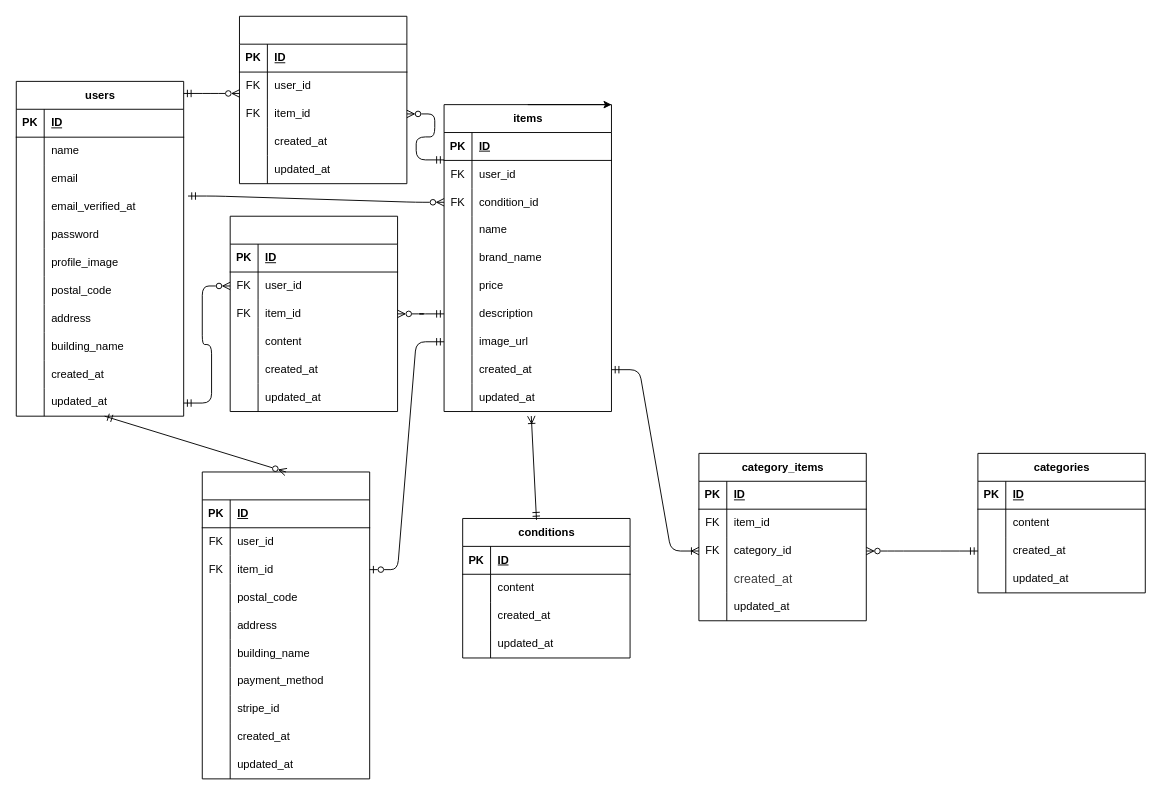
The diagram is 1162 pixels wide and 795 high, and some of its shapes have lost their labels. Here are the shapes that lost their labels. From the top down, the box of each, then its label:
(239, 15, 407, 184): favorites
(229, 215, 398, 412): comments
(201, 471, 370, 779): orders
